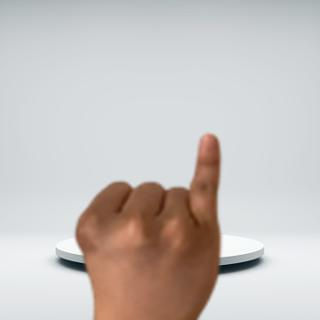FINE: (68, 129, 227, 320)
